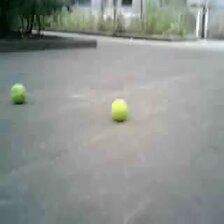tennis: (109, 99, 129, 119), (10, 84, 26, 103)
